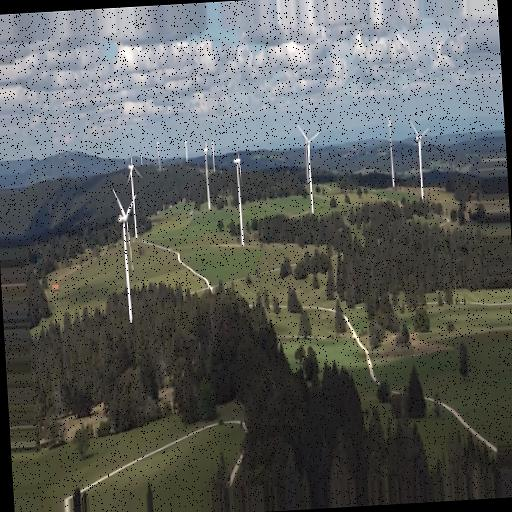wind turbine: (110, 187, 140, 325), (297, 126, 323, 215), (408, 120, 434, 200), (124, 155, 145, 239), (232, 154, 249, 243)
